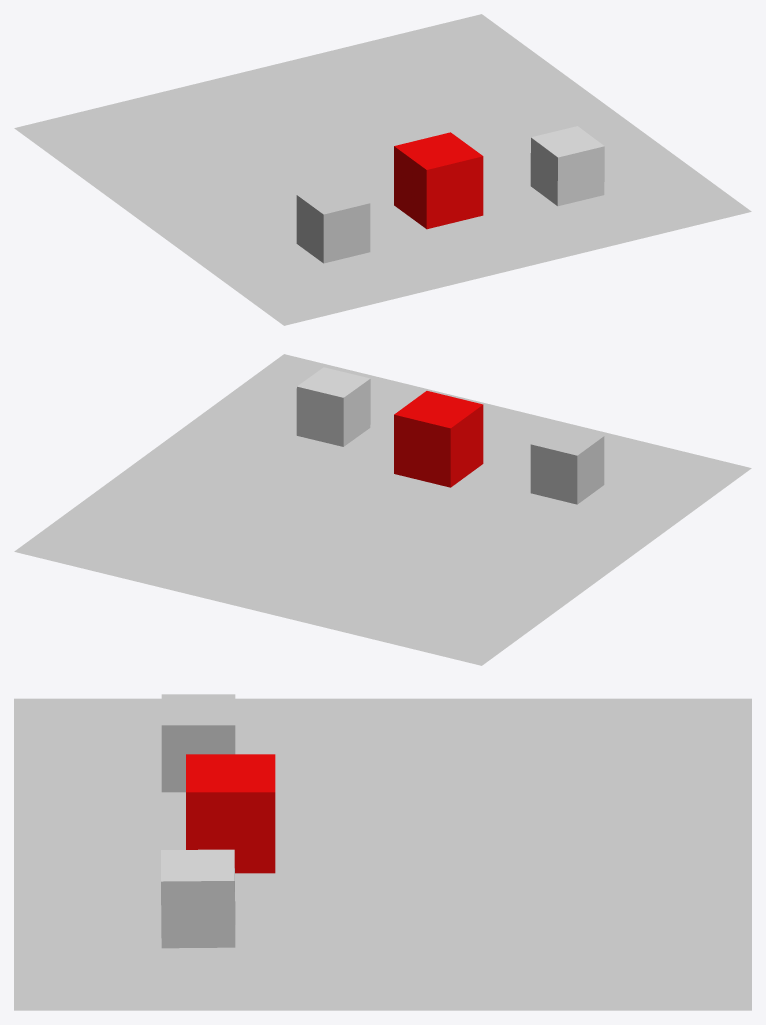
3 renders of one model, top to bottom at view 1: azimuth 30°, elevation 25°; view 2: azimuth 150°, elevation 25°; view 3: azimuth 270°, elevation 25°, orthographic. The views are drawn at different scales.
Parts seen in each view (by area): view 1: pPlane1, pCube4, pCube3, pCube2; view 2: pPlane1, pCube4, pCube3, pCube2; view 3: pPlane1, pCube4, pCube2, pCube3.
Boxes of the visible parts, bbox=[...] form: pPlane1: bbox=[14, 14, 751, 325]; pCube4: bbox=[394, 132, 483, 229]; pCube3: bbox=[296, 183, 370, 263]; pCube2: bbox=[530, 126, 604, 206]; pPlane1: bbox=[14, 354, 751, 665]; pCube4: bbox=[394, 391, 483, 487]; pCube3: bbox=[530, 424, 604, 504]; pCube2: bbox=[296, 367, 370, 446]; pPlane1: bbox=[14, 698, 751, 1010]; pCube4: bbox=[186, 754, 275, 873]; pCube2: bbox=[161, 849, 235, 948]; pCube3: bbox=[161, 694, 235, 792].
Size of the model in its own units: 1000 by 1000 by 122.
